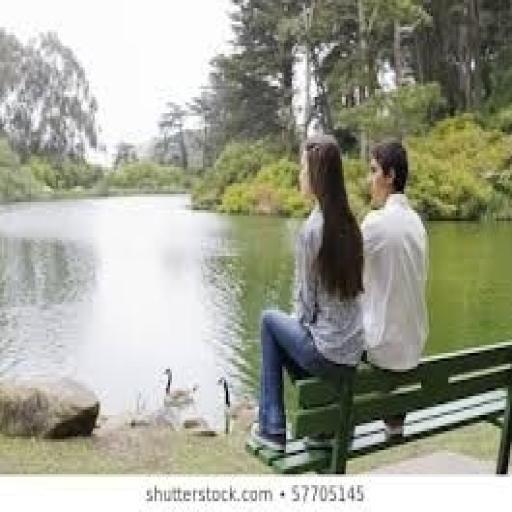sitting: (247, 126, 431, 452)
